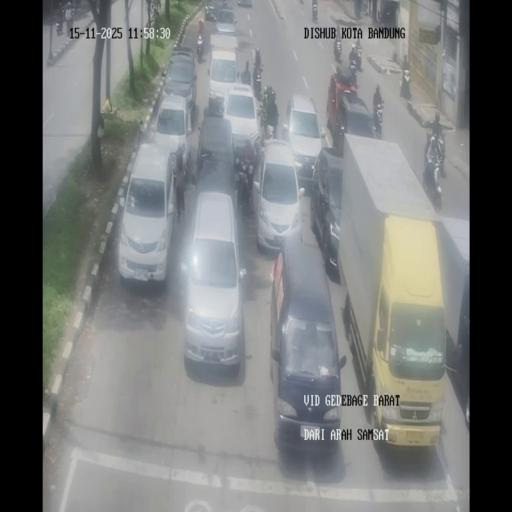car: (270, 239, 343, 452), (181, 190, 247, 369), (118, 142, 176, 284), (280, 92, 324, 186), (314, 148, 344, 278), (220, 83, 260, 164), (163, 49, 198, 120), (215, 6, 238, 36), (204, 2, 219, 22)
motorcycle: (234, 154, 255, 209), (423, 148, 441, 206), (170, 138, 186, 182), (264, 109, 279, 138), (252, 135, 262, 175), (372, 102, 383, 138), (400, 65, 411, 98), (253, 67, 263, 100), (348, 55, 358, 87), (196, 32, 204, 62), (439, 136, 446, 170), (241, 68, 252, 88), (334, 38, 342, 64), (355, 40, 362, 69), (56, 12, 63, 36), (362, 0, 369, 17), (312, 4, 318, 22), (69, 6, 74, 25), (377, 7, 382, 22), (74, 0, 81, 10), (221, 0, 228, 8)
truck: (336, 139, 462, 448), (327, 68, 373, 154), (448, 267, 470, 434), (210, 32, 238, 57), (380, 0, 400, 25)
